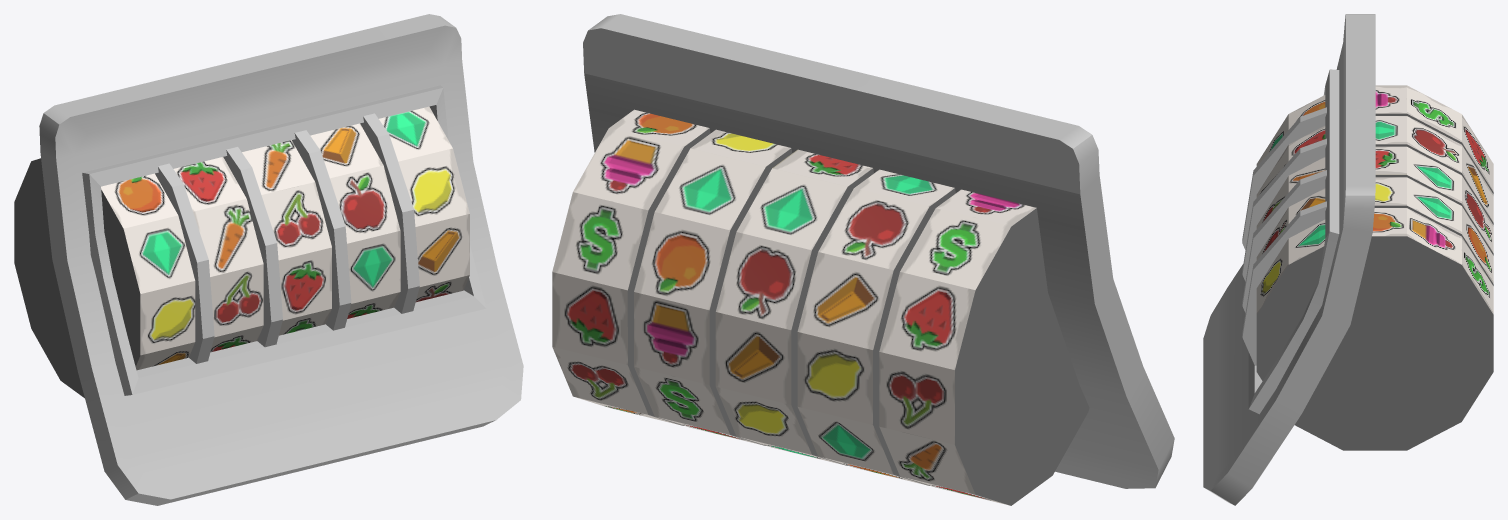
Rendered from SM_Prop_Slot_Machine_02_Cylinder_Insert_01.fbx.
The picture shows the model from 3 angles, left to right: view 1: azimuth 30°, elevation 25°; view 2: azimuth 150°, elevation 25°; view 3: azimuth 270°, elevation 25°; orthographic projection. The views are drawn at different scales.
Parts seen in each view (by area): view 1: SM_Prop_Slot_Machine_02_Cylinder_Insert_01, SM_Prop_Slot_Machine_02_Cylinder_01, SM_Prop_Slot_Machine_03_Cylinder_05, SM_Prop_Slot_Machine_03_Cylinder_04, SM_Prop_Slot_Machine_03_Cylinder_02, SM_Prop_Slot_Machine_03_Cylinder_03; view 2: SM_Prop_Slot_Machine_02_Cylinder_Insert_01, SM_Prop_Slot_Machine_02_Cylinder_01, SM_Prop_Slot_Machine_03_Cylinder_02, SM_Prop_Slot_Machine_03_Cylinder_03, SM_Prop_Slot_Machine_03_Cylinder_05, SM_Prop_Slot_Machine_03_Cylinder_04; view 3: SM_Prop_Slot_Machine_02_Cylinder_Insert_01, SM_Prop_Slot_Machine_03_Cylinder_05, SM_Prop_Slot_Machine_03_Cylinder_03, SM_Prop_Slot_Machine_03_Cylinder_04, SM_Prop_Slot_Machine_03_Cylinder_02, SM_Prop_Slot_Machine_02_Cylinder_01.
Part boxes in pixels (left/top/right/bottom): SM_Prop_Slot_Machine_02_Cylinder_Insert_01: left=39, top=14, right=523, bottom=505; SM_Prop_Slot_Machine_02_Cylinder_01: left=14, top=158, right=195, bottom=398; SM_Prop_Slot_Machine_03_Cylinder_05: left=379, top=106, right=469, bottom=302; SM_Prop_Slot_Machine_03_Cylinder_04: left=310, top=123, right=400, bottom=318; SM_Prop_Slot_Machine_03_Cylinder_02: left=173, top=157, right=263, bottom=352; SM_Prop_Slot_Machine_03_Cylinder_03: left=242, top=140, right=331, bottom=335; SM_Prop_Slot_Machine_02_Cylinder_Insert_01: left=583, top=14, right=1174, bottom=488; SM_Prop_Slot_Machine_02_Cylinder_01: left=879, top=189, right=1089, bottom=505; SM_Prop_Slot_Machine_03_Cylinder_02: left=797, top=169, right=955, bottom=485; SM_Prop_Slot_Machine_03_Cylinder_03: left=715, top=149, right=873, bottom=465; SM_Prop_Slot_Machine_03_Cylinder_05: left=552, top=109, right=710, bottom=425; SM_Prop_Slot_Machine_03_Cylinder_04: left=634, top=129, right=792, bottom=445; SM_Prop_Slot_Machine_02_Cylinder_Insert_01: left=1203, top=14, right=1375, bottom=505; SM_Prop_Slot_Machine_03_Cylinder_05: left=1256, top=208, right=1493, bottom=450; SM_Prop_Slot_Machine_03_Cylinder_03: left=1256, top=146, right=1493, bottom=255; SM_Prop_Slot_Machine_03_Cylinder_04: left=1256, top=177, right=1493, bottom=285; SM_Prop_Slot_Machine_03_Cylinder_02: left=1256, top=116, right=1493, bottom=224; SM_Prop_Slot_Machine_02_Cylinder_01: left=1256, top=85, right=1493, bottom=193.
Size of the model in its own units: 88.36 by 72.58 by 58.26.
